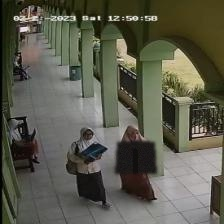Cadar_Niqab: (115, 124, 157, 173)
